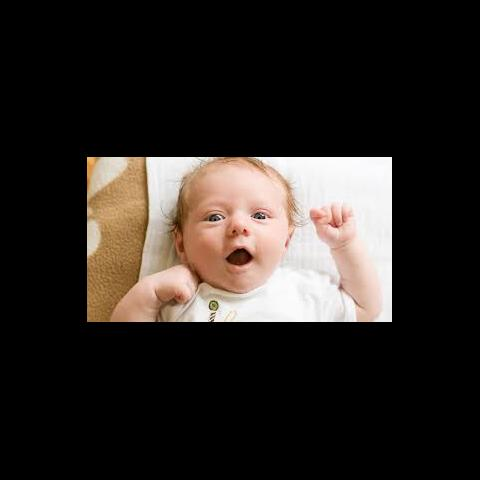opened: (194, 203, 284, 231)
